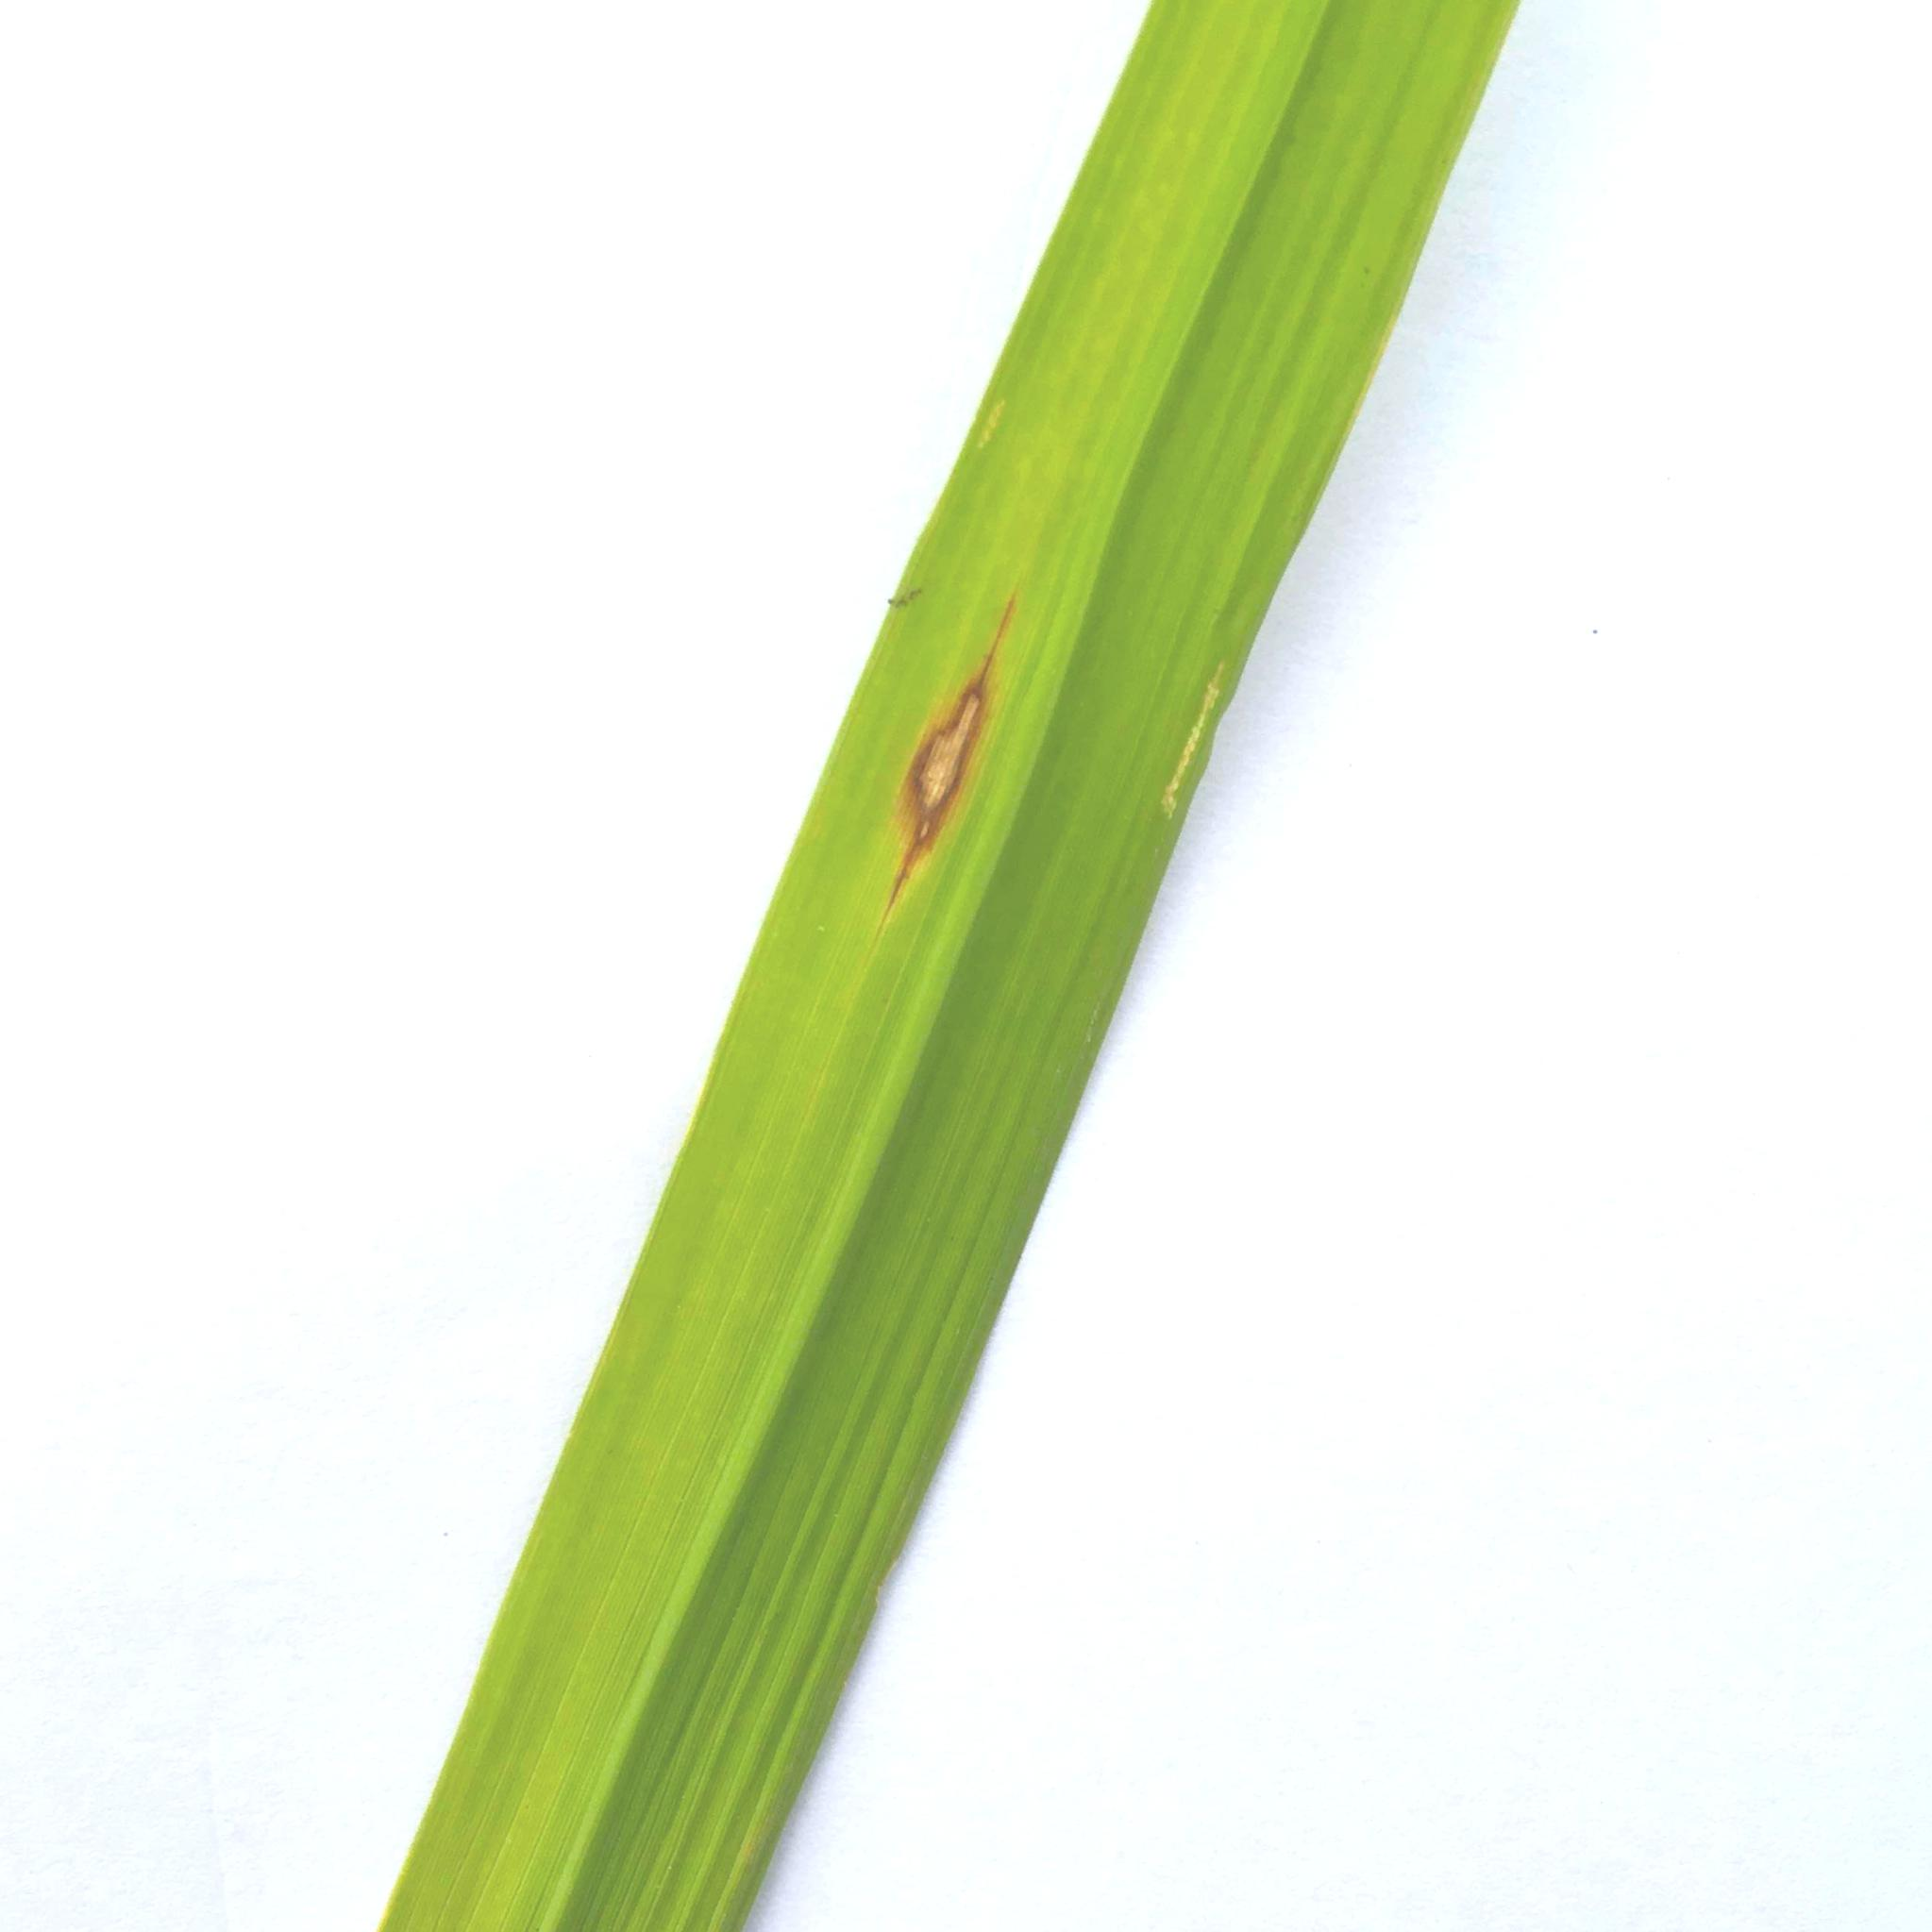1 RiceBlast: (853, 570, 1051, 890)
